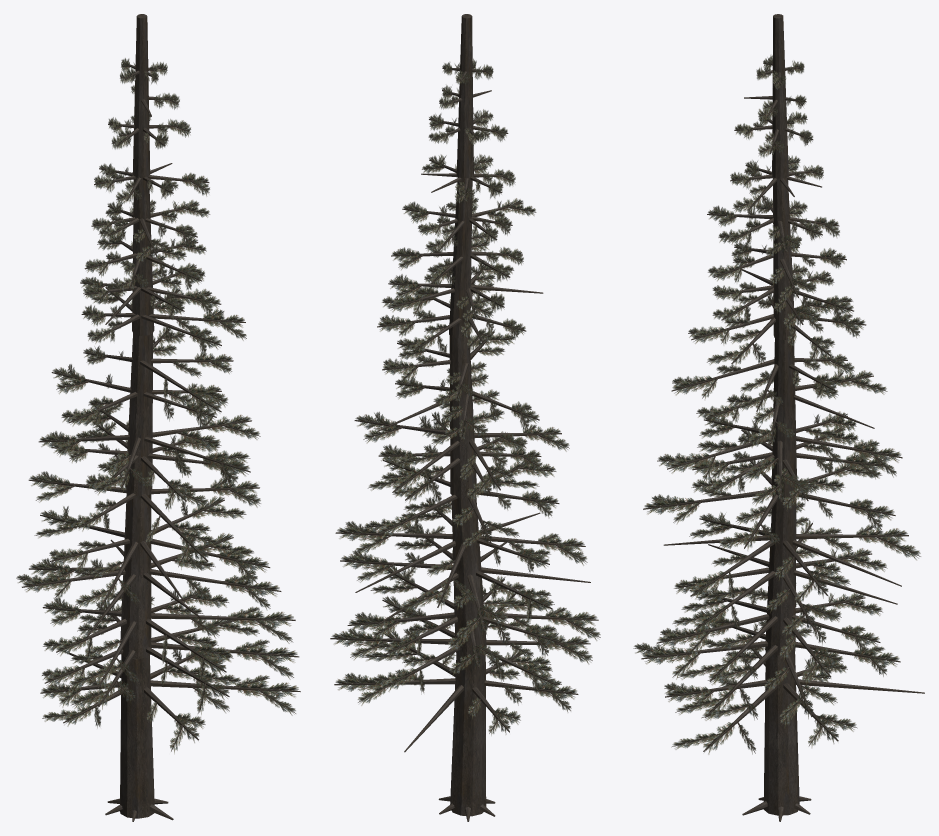
Rendered from widowpine_tree_c.glb.
3 renders of one model, left to right at view 1: azimuth 30°, elevation 25°; view 2: azimuth 150°, elevation 25°; view 3: azimuth 270°, elevation 25°, orthographic.
Parts seen in each view (by area): view 1: WidowpineTreeC; view 2: WidowpineTreeC; view 3: WidowpineTreeC.
Boxes of the visible parts, x1,y1,x2,y2 form: WidowpineTreeC: (16, 14, 300, 821); WidowpineTreeC: (330, 14, 600, 821); WidowpineTreeC: (633, 14, 924, 821).
Bounding box in the file's own units: 7.48 × 25.01 × 8.39.
2 materials, 2 textured.
